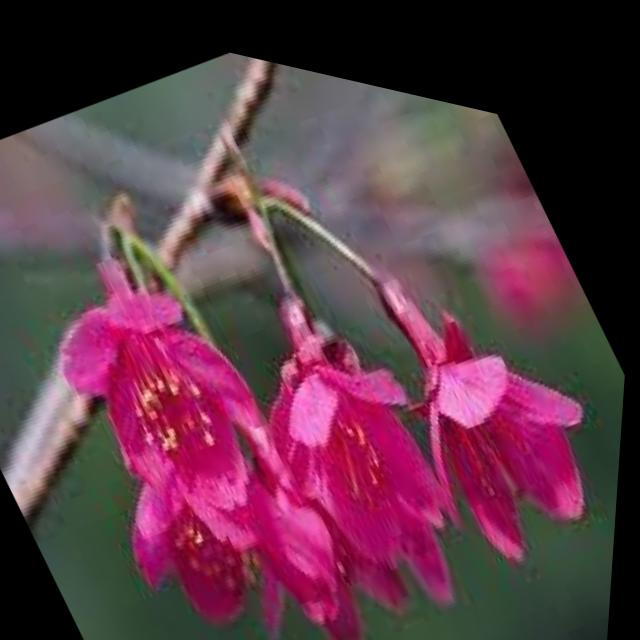Flower: (250, 84, 638, 584), (143, 124, 488, 590), (0, 147, 332, 576), (58, 319, 392, 640)
